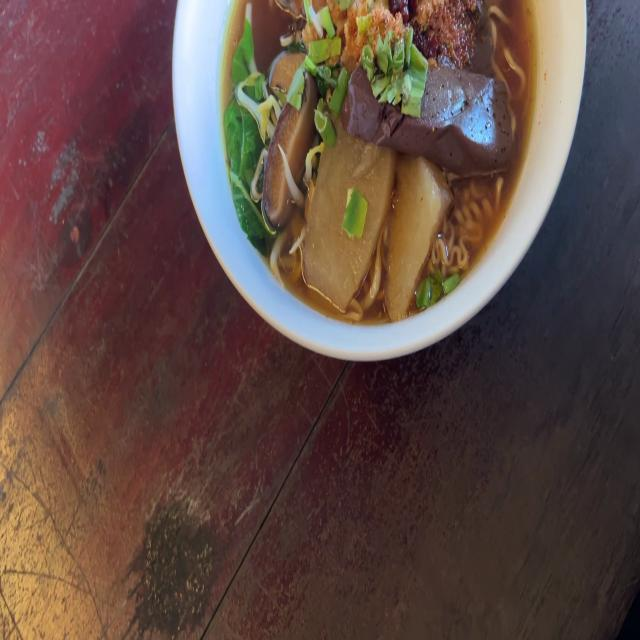boiled_chicken_blood_jelly: (342, 57, 513, 167), (466, 0, 494, 75)
daikon_radish: (308, 139, 446, 298)
noodle: (233, 0, 528, 282)
